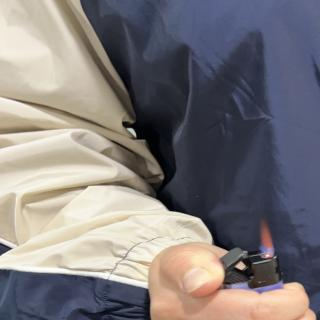fire: (257, 220, 276, 258)
